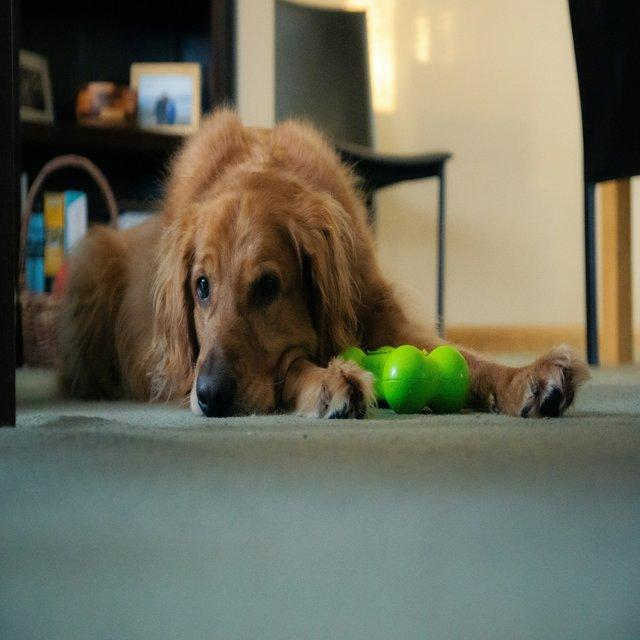retriever: (53, 104, 591, 420)
